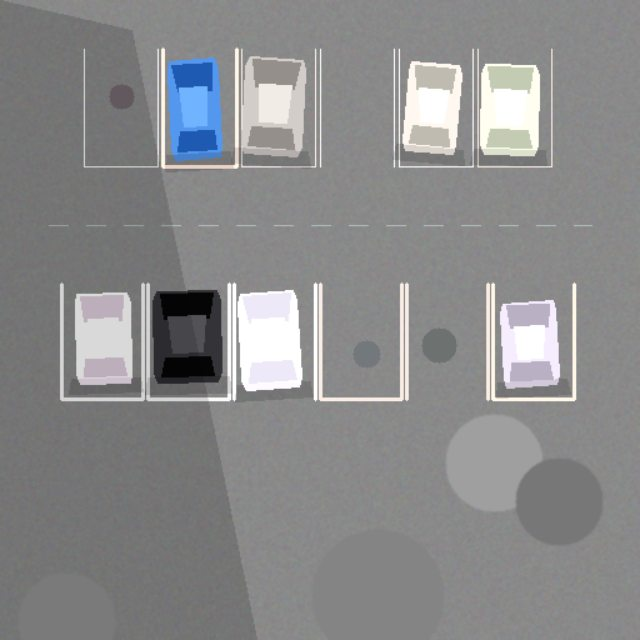space-empty: (320, 284, 401, 399), (406, 284, 487, 399), (84, 49, 158, 166), (320, 49, 394, 166)
space-occupied: (61, 284, 143, 399), (147, 284, 229, 399), (234, 284, 315, 399), (493, 284, 574, 399), (162, 49, 236, 166), (241, 49, 315, 166), (399, 49, 472, 166), (478, 49, 551, 166)
